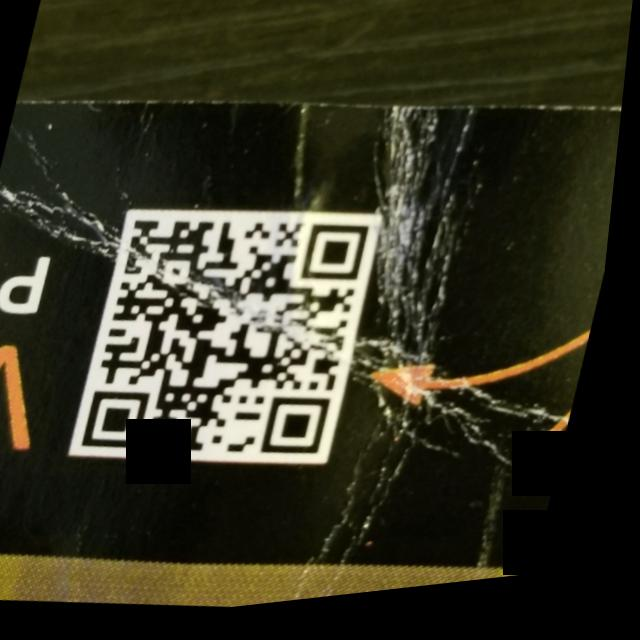QR_CODE: (74, 180, 395, 492)
